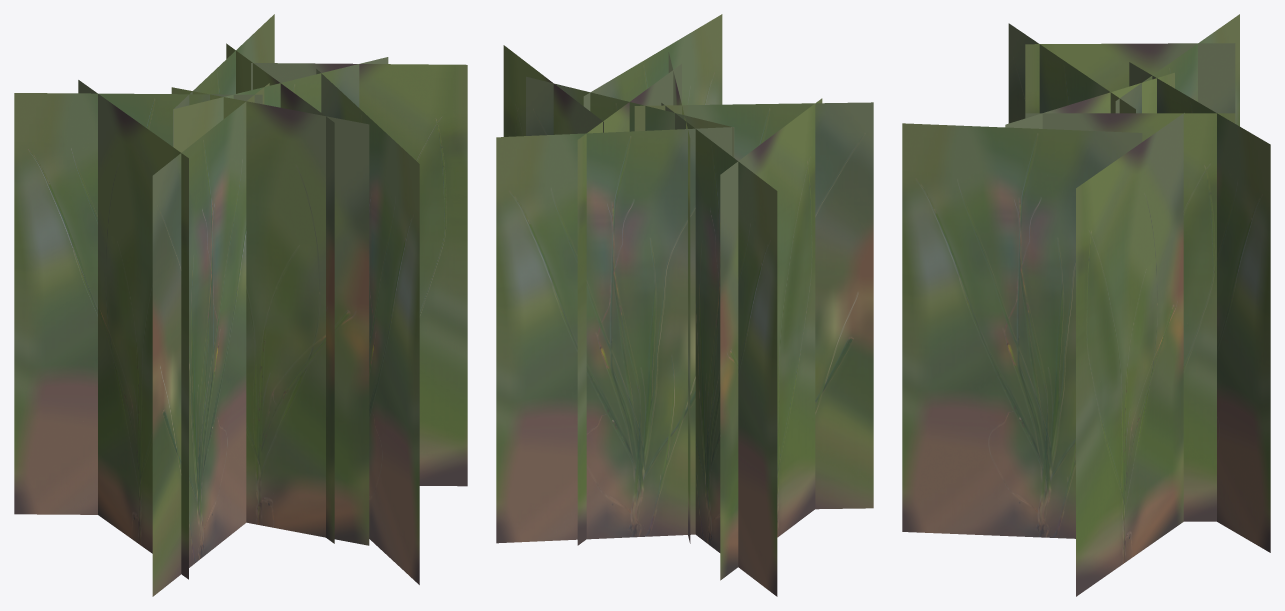
Rendered from Grass_02.fbx.
3 renders of one model, left to right at view 1: azimuth 30°, elevation 25°; view 2: azimuth 150°, elevation 25°; view 3: azimuth 270°, elevation 25°, orthographic. The views are drawn at different scales.
Parts seen in each view (by area): view 1: Grass_p1; view 2: Grass_p1; view 3: Grass_p1.
Part boxes in pixels (x1,y1,x2,y2): Grass_p1: (14, 14, 467, 596); Grass_p1: (496, 14, 873, 596); Grass_p1: (902, 14, 1270, 596).
Size of the model in its own units: 0.1898 by 0.2073 by 0.1693.
